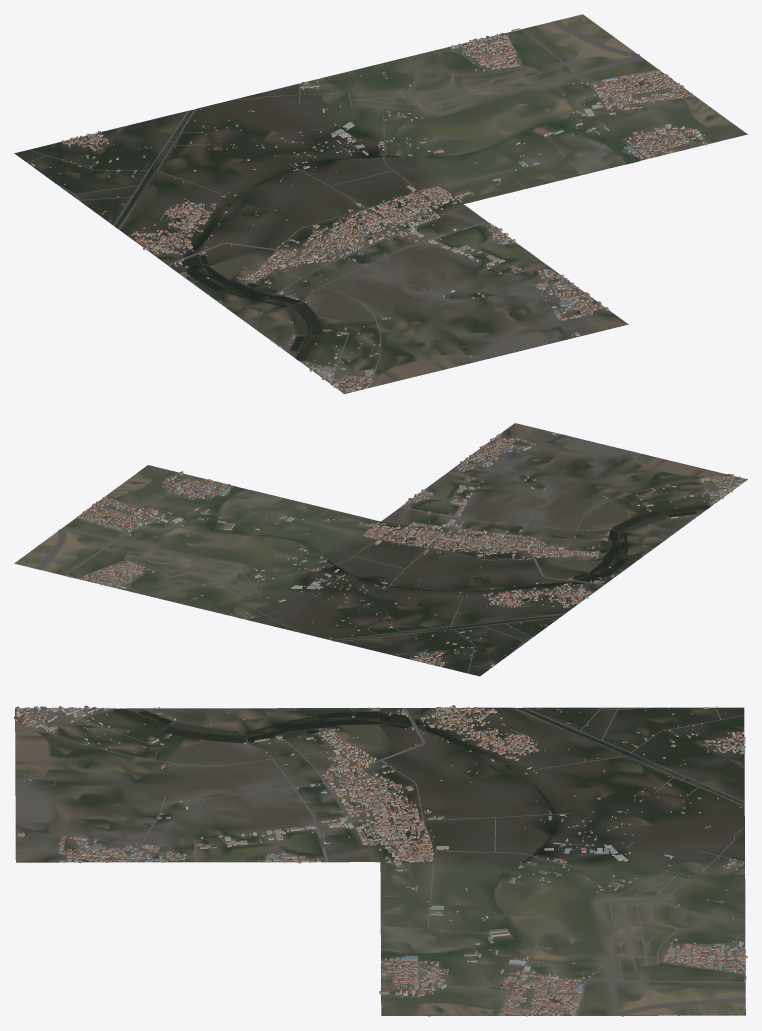
3 views of the same model, one above another, from view 1: azimuth 30°, elevation 25°; view 2: azimuth 150°, elevation 25°; view 3: azimuth 270°, elevation 25° (orthographic). The views are drawn at different scales.
Parts seen in each view (by area): view 1: ground, buildings, roads, water; view 2: ground, buildings, roads, water; view 3: ground, buildings, roads, water.
Boxes of the visible parts, left/top/right/bottom form: ground: left=14, top=14, right=747, bottom=393; buildings: left=26, top=19, right=707, bottom=393; roads: left=14, top=16, right=731, bottom=391; water: left=116, top=94, right=725, bottom=360; ground: left=14, top=423, right=747, bottom=676; buildings: left=22, top=432, right=747, bottom=669; roads: left=16, top=426, right=738, bottom=676; water: left=130, top=468, right=709, bottom=638; ground: left=15, top=707, right=745, bottom=1016; buildings: left=14, top=705, right=747, bottom=1016; roads: left=15, top=707, right=745, bottom=1016; water: left=114, top=708, right=722, bottom=1015.
Bounding box in the file's own units: 2818 × 26.7 × 2822.
